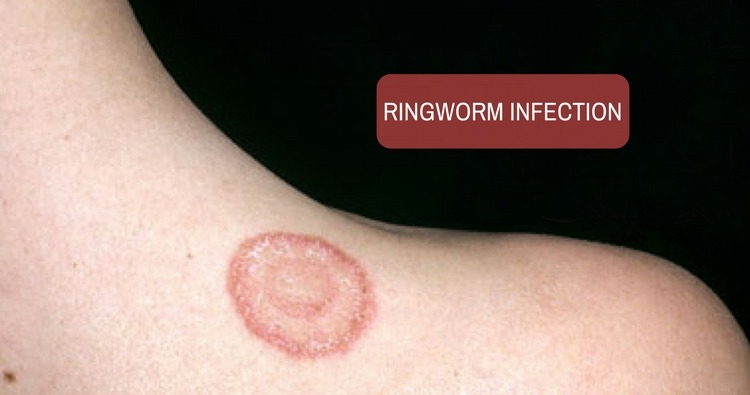Ringworm: (224, 221, 388, 367)
